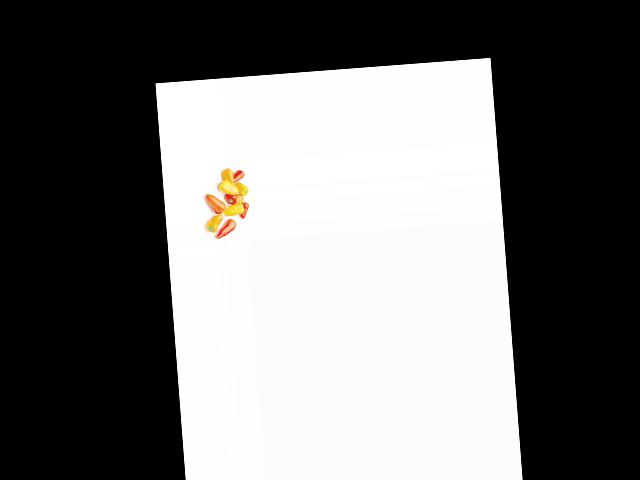bell_pepper: (240, 200, 250, 220)
